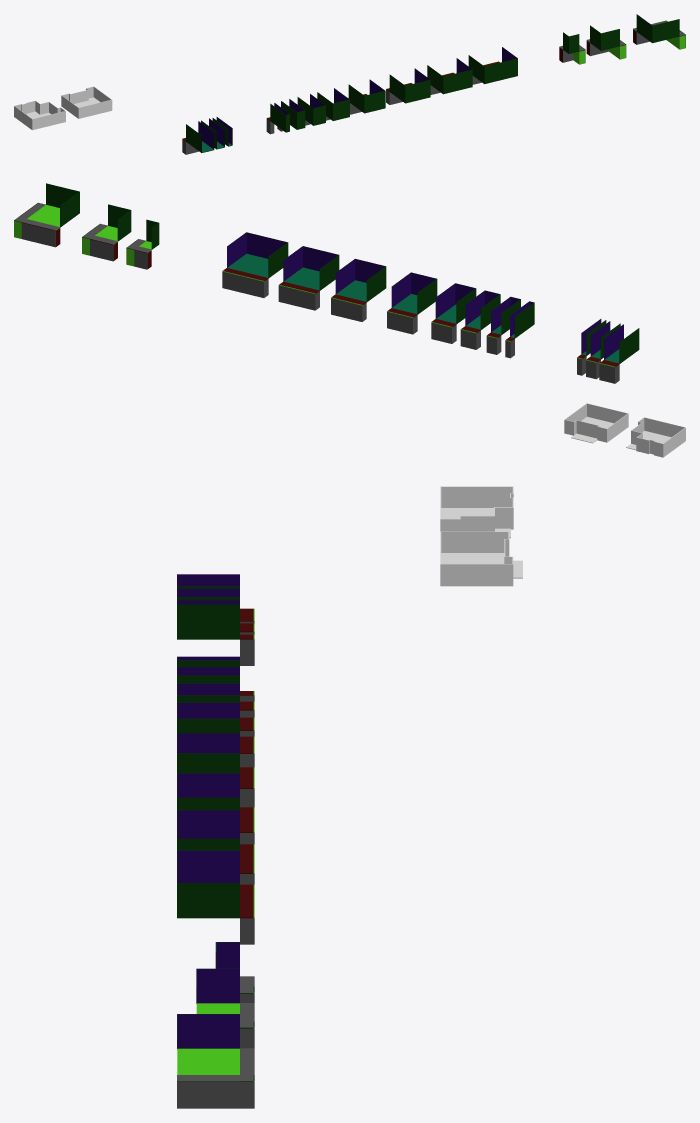
Rendered from templates4.fbx.
3 renders of one model, top to bottom at view 1: azimuth 30°, elevation 25°; view 2: azimuth 150°, elevation 25°; view 3: azimuth 270°, elevation 25°, orthographic. The views are drawn at different scales.
Visible parts, largest first — view 1: CornerStore_Template_Xm001, Apartment_template_Xm, CornerApartment_template_Xm, Store_Template_8m, Store_Template_6m, Store_Template_7m, CornerStore_Template_6x6m, Store_Template_5m, Alley_Template_3m, Store_Template_Xm001, CornerStore_Template_4x4m, Store_Template_3m (+4 smaller); view 2: Store_Template_8m, Store_Template_7m, CornerStore_Template_Xm001, Store_Template_6m, Store_Template_5m, Apartment_template_Xm, Store_Template_Xm001, CornerStore_Template_6x6m, CornerApartment_template_Xm, Alley_Template_3m, Store_Template_3m, Store_Template_2m (+4 smaller); view 3: CornerStore_Template_Xm001, Store_Template_8m, Apartment_template_Xm, CornerApartment_template_Xm, Store_Template_7m, Store_Template_5m, Alley_Template_1m, Store_Template_6m, CornerStore_Template_6x6m, Store_Template_Xm001, Store_Template_3m, Store_Template_2m (+4 smaller).
Part boxes in pixels (box(x1,y1,x2,y2)): CornerStore_Template_Xm001: box(633, 14, 685, 49); Apartment_template_Xm: box(61, 86, 112, 118); CornerApartment_template_Xm: box(14, 100, 65, 130); Store_Template_8m: box(468, 47, 517, 84); Store_Template_6m: box(386, 68, 430, 104); Store_Template_7m: box(427, 58, 472, 94); CornerStore_Template_6x6m: box(586, 25, 626, 59); Store_Template_5m: box(348, 79, 385, 114); Alley_Template_3m: box(182, 121, 214, 154); Store_Template_Xm001: box(317, 88, 349, 120); CornerStore_Template_4x4m: box(559, 32, 585, 64); Store_Template_3m: box(297, 94, 325, 125); Store_Template_8m: box(222, 232, 288, 297); Store_Template_7m: box(278, 246, 339, 310); CornerStore_Template_Xm001: box(14, 183, 79, 247); Store_Template_6m: box(331, 258, 386, 321); Store_Template_5m: box(387, 272, 437, 334); Apartment_template_Xm: box(564, 403, 628, 443); Store_Template_Xm001: box(431, 283, 476, 343); CornerStore_Template_6x6m: box(82, 204, 131, 261); CornerApartment_template_Xm: box(626, 417, 685, 457); Alley_Template_3m: box(599, 324, 639, 383); Store_Template_3m: box(460, 290, 500, 349); Store_Template_2m: box(486, 296, 520, 354); CornerStore_Template_Xm001: box(177, 1014, 254, 1108); Store_Template_8m: box(177, 850, 254, 944); Apartment_template_Xm: box(440, 531, 522, 586); CornerApartment_template_Xm: box(440, 486, 513, 538); Store_Template_7m: box(177, 810, 254, 884); Store_Template_5m: box(177, 733, 254, 807); Alley_Template_1m: box(177, 600, 254, 665); Store_Template_6m: box(177, 773, 254, 844); CornerStore_Template_6x6m: box(196, 968, 254, 1048); Store_Template_Xm001: box(177, 702, 254, 767); Store_Template_3m: box(177, 683, 254, 736); Store_Template_2m: box(177, 667, 254, 717).
Bounding box in the file's own units: 13981 × 3566 × 700.
